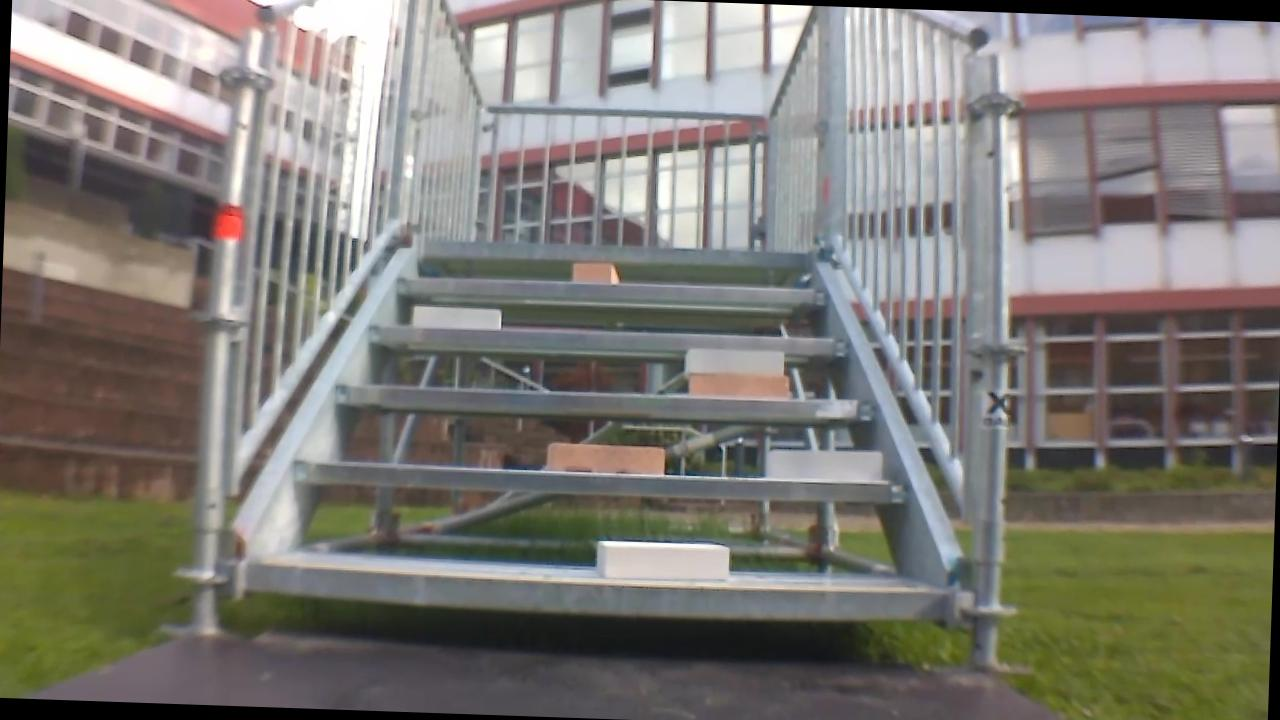brick: (597, 539, 728, 584), (765, 447, 879, 483), (548, 442, 662, 472), (687, 371, 785, 401), (684, 348, 781, 375), (415, 307, 500, 329), (569, 261, 617, 283)
edge: (243, 562, 941, 624), (292, 458, 908, 504), (334, 382, 877, 422), (371, 320, 849, 359), (398, 273, 831, 305), (425, 237, 817, 270)
steps: (236, 226, 957, 634)
